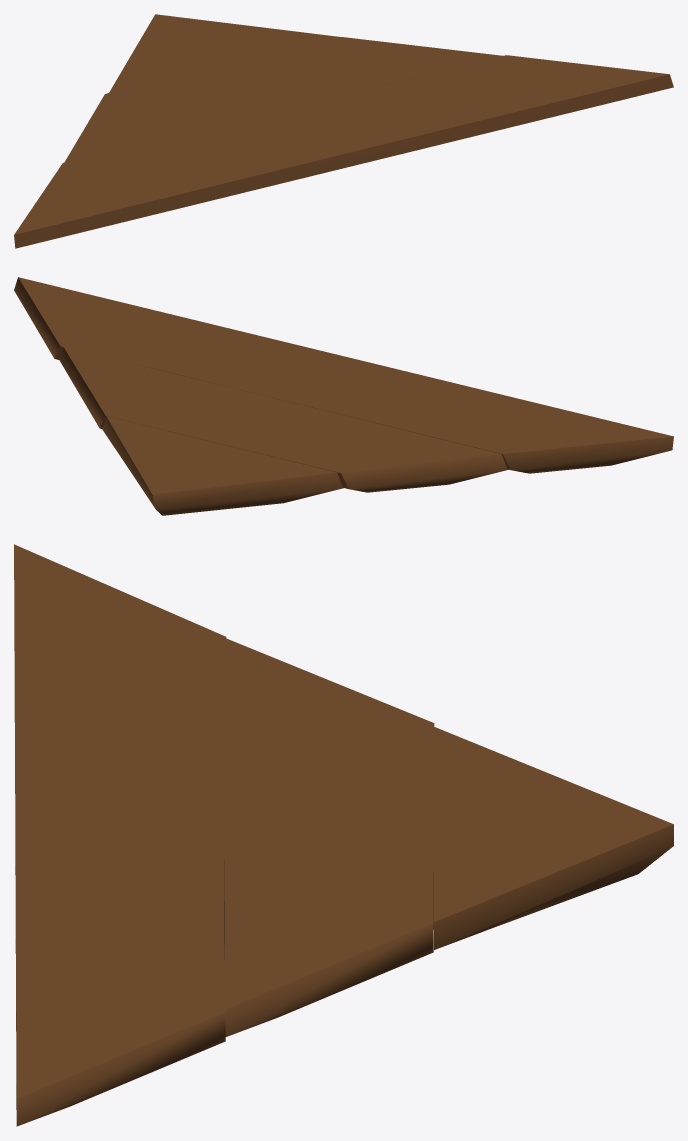
Rendered from rt90_wood_4_birchSplitLogTriFloorSection2.glb.
3 views of the same model, one above another, from view 1: azimuth 30°, elevation 25°; view 2: azimuth 150°, elevation 25°; view 3: azimuth 270°, elevation 25° (orthographic). The views are drawn at different scales.
Parts seen in each view (by area): view 1: inside; view 2: inside; view 3: inside.
Part boxes in pixels (left/top/right/bottom): inside: left=14, top=14, right=673, bottom=248; inside: left=14, top=277, right=673, bottom=515; inside: left=14, top=544, right=673, bottom=1126.
Size of the model in its own units: 2.93 by 0.1233 by 1.46.
